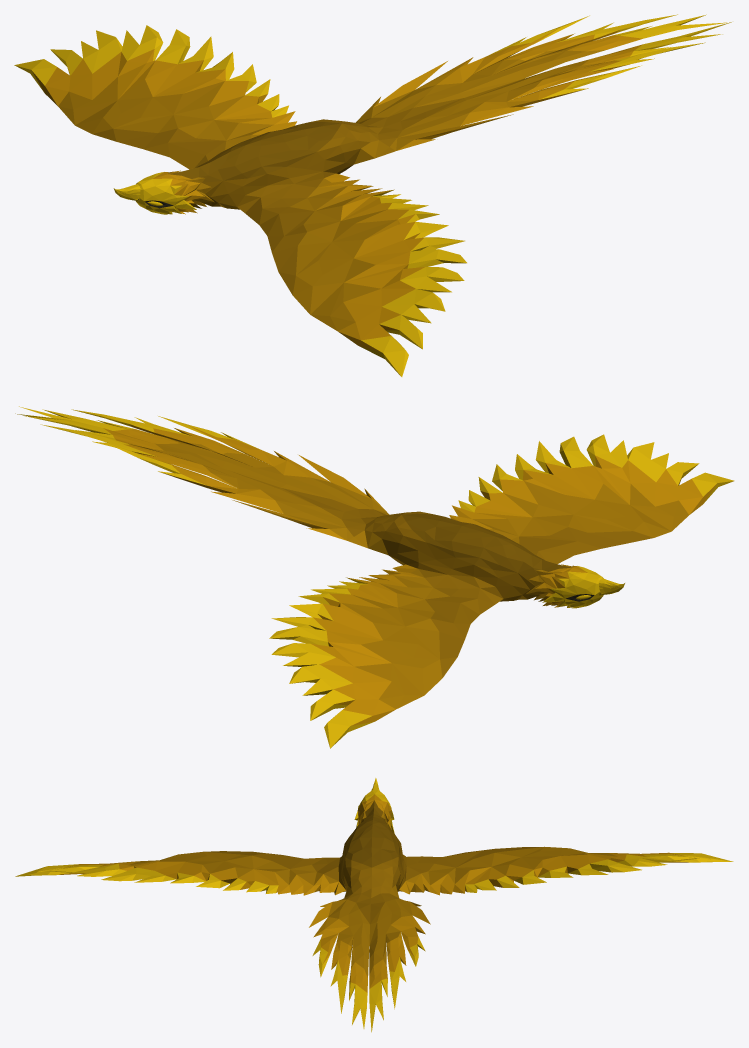
The model's file is SM_Phoenix.fbx.
3 renders of one model, top to bottom at view 1: azimuth 30°, elevation 25°; view 2: azimuth 150°, elevation 25°; view 3: azimuth 270°, elevation 25°, orthographic. The views are drawn at different scales.
Parts seen in each view (by area): view 1: SM_Phoenix; view 2: SM_Phoenix; view 3: SM_Phoenix.
Part boxes in pixels (bbox=[...]): SM_Phoenix: bbox=[14, 14, 731, 376]; SM_Phoenix: bbox=[15, 406, 734, 748]; SM_Phoenix: bbox=[15, 778, 733, 1032].
Size of the model in its own units: 185 by 28.87 by 206.
